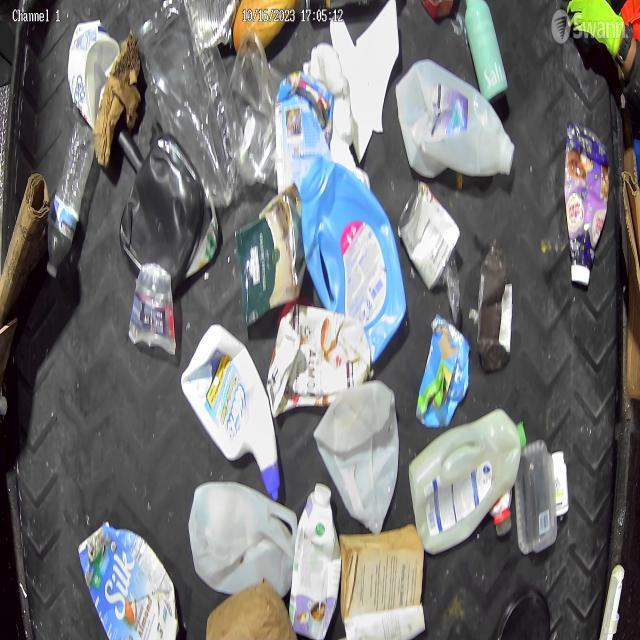milk_jug: (413, 396, 530, 552), (392, 52, 517, 186), (183, 472, 299, 600), (315, 375, 399, 537)
non_white_jug: (302, 143, 406, 354), (72, 518, 174, 638)
plastic_bottle: (141, 4, 237, 188), (216, 47, 278, 186), (52, 118, 95, 274)
